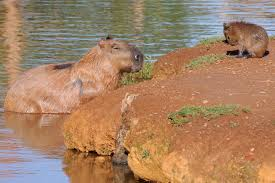capivara: (3, 34, 144, 113), (223, 20, 269, 59)
